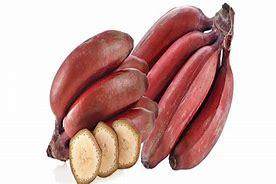banana: (34, 10, 263, 177), (63, 119, 148, 184)
